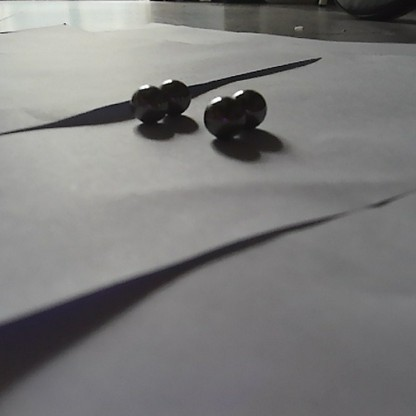ironball: (203, 95, 244, 135), (229, 88, 266, 130), (129, 84, 167, 122), (158, 77, 190, 114)
